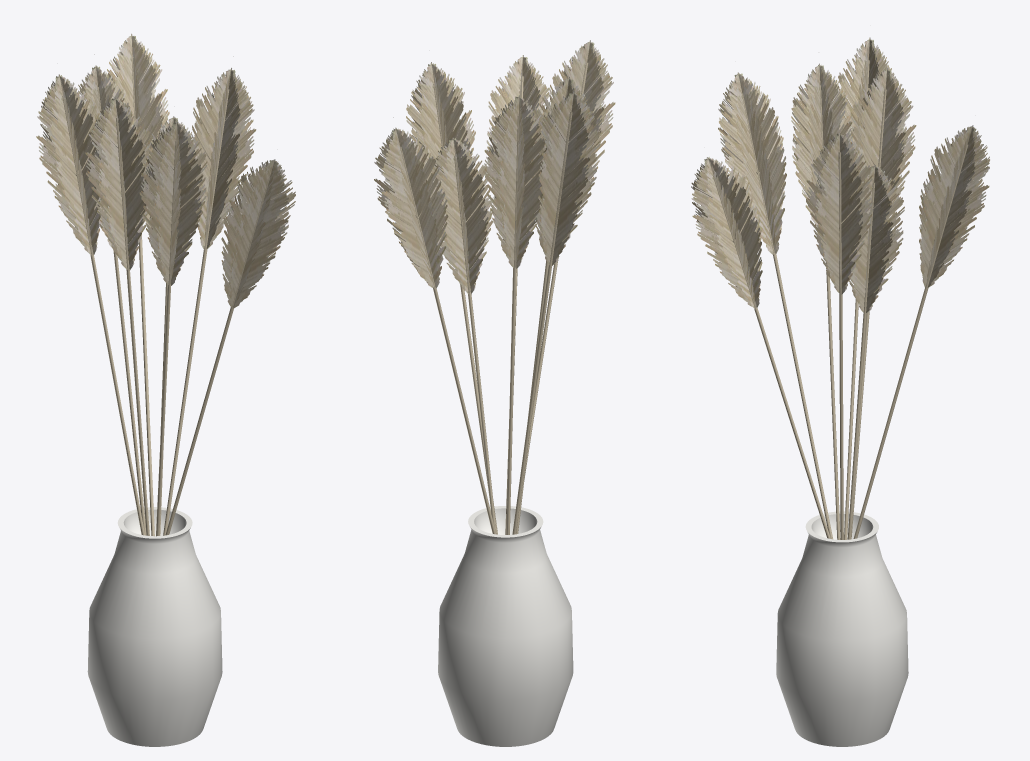
The model's file is obj-pampas-vase.glb.
The picture shows the model from 3 angles, left to right: view 1: azimuth 30°, elevation 25°; view 2: azimuth 150°, elevation 25°; view 3: azimuth 270°, elevation 25°; orthographic projection. The views are drawn at different scales.
Visible parts, largest first — view 1: obj-pampas-vase; view 2: obj-pampas-vase; view 3: obj-pampas-vase.
Part boxes in pixels (x1=…): obj-pampas-vase: x1=36, y1=33, x2=295, y2=746; obj-pampas-vase: x1=374, y1=40, x2=615, y2=746; obj-pampas-vase: x1=691, y1=37, x2=989, y2=746.
Size of the model in its own units: 0.3637 by 1 by 0.4772.
3 materials, 1 textured.
